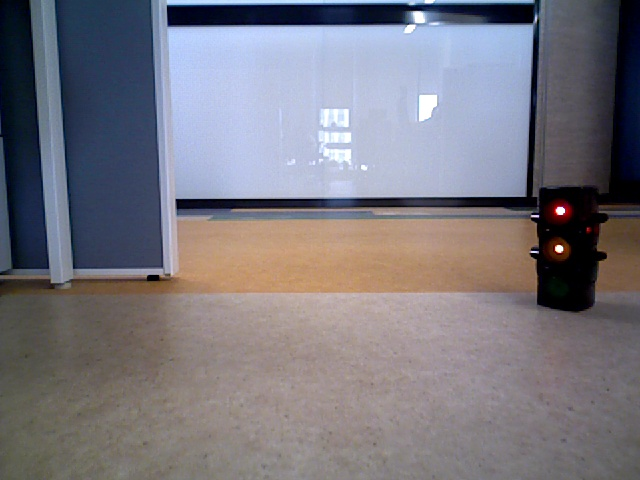red: (539, 190, 593, 306)
